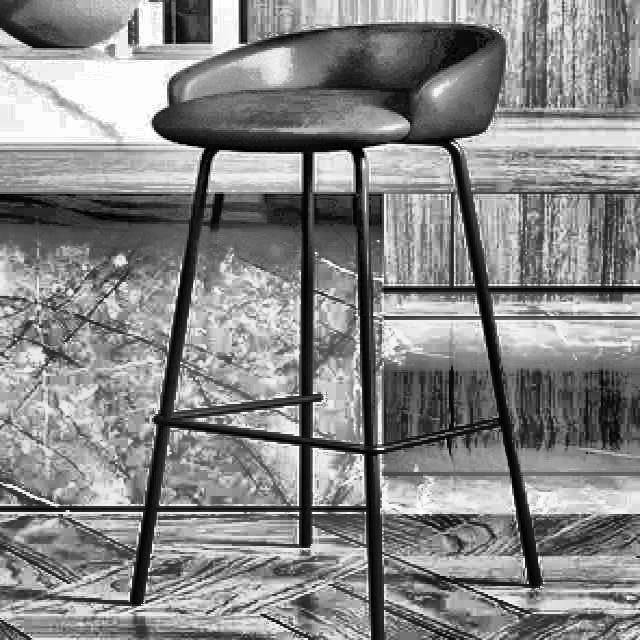cadeira: (127, 13, 547, 640), (151, 17, 504, 156)
